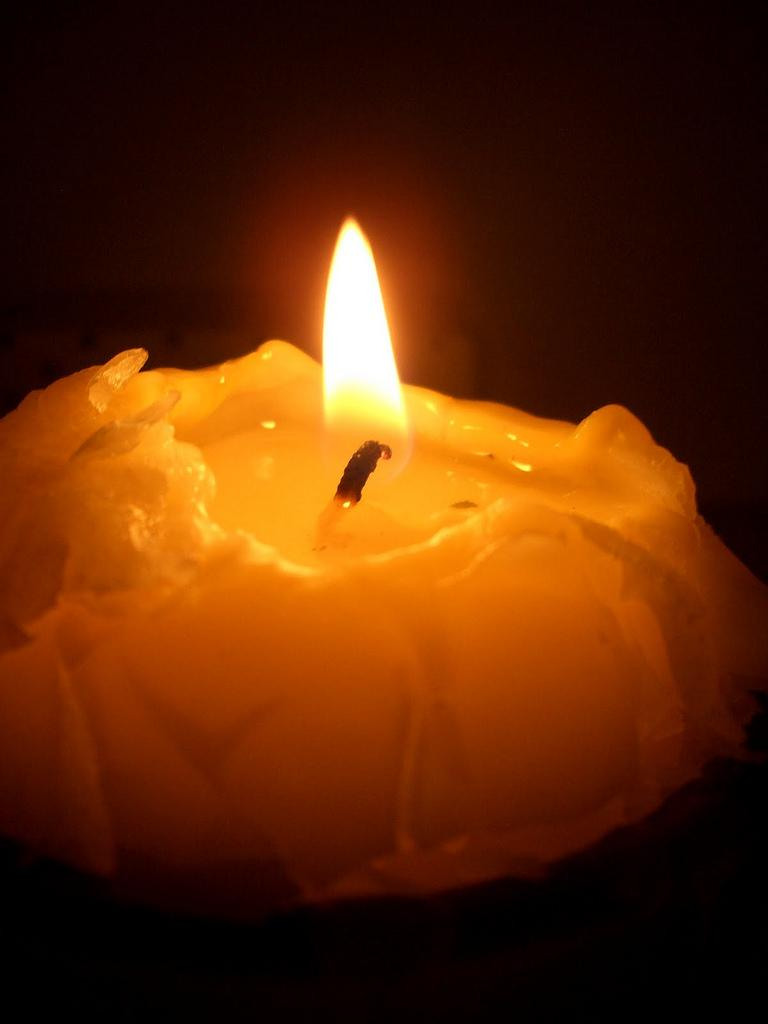fire: (278, 230, 470, 502)
